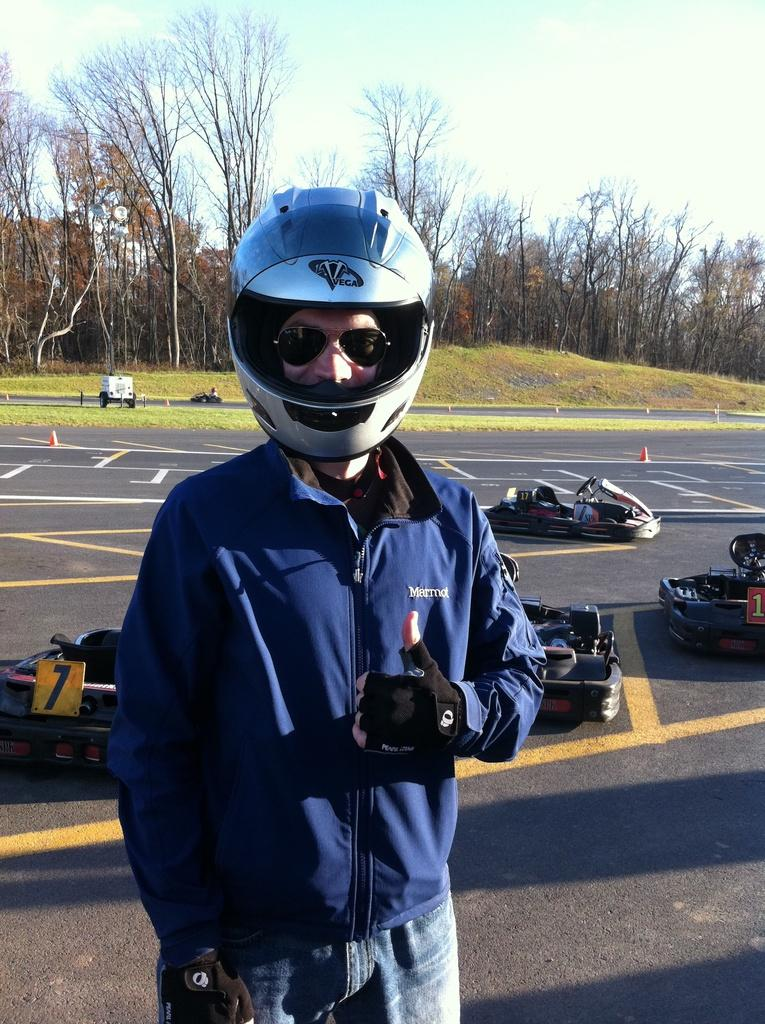helmet: (226, 187, 436, 464)
